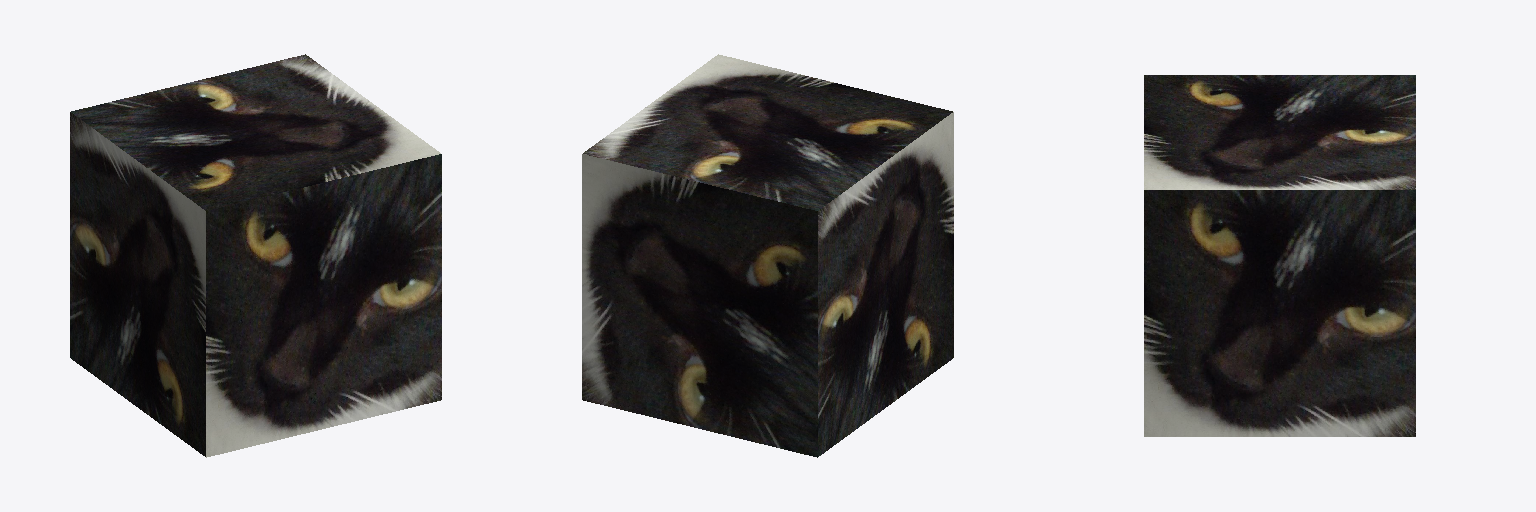
The picture shows the model from 3 angles: view 1: azimuth 30°, elevation 25°; view 2: azimuth 150°, elevation 25°; view 3: azimuth 270°, elevation 25°; orthographic projection.
Visible parts, largest first — view 1: Cube; view 2: Cube; view 3: Cube.
Boxes of the visible parts, box(x1,y1,x2,y2) form: Cube: box(70, 54, 441, 457); Cube: box(582, 54, 953, 457); Cube: box(1144, 75, 1415, 436).
Size of the model in its own units: 2 by 2 by 2.
Materials: 1 (1 with a texture image).